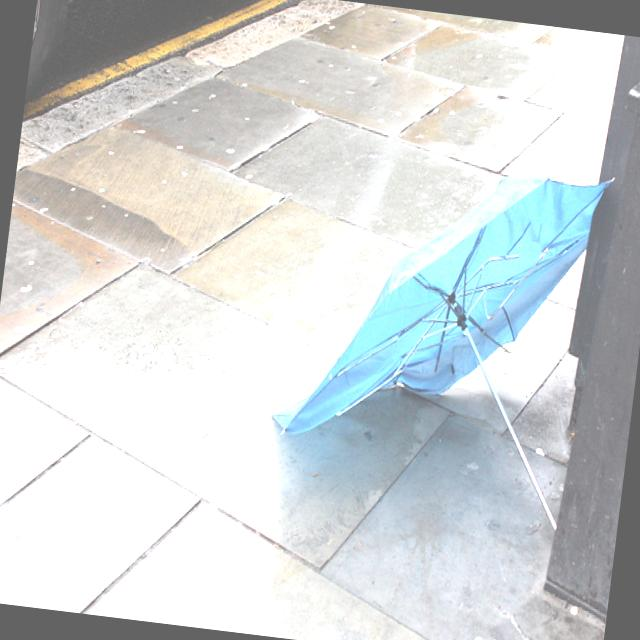Vehicle: (23, 0, 132, 119)
